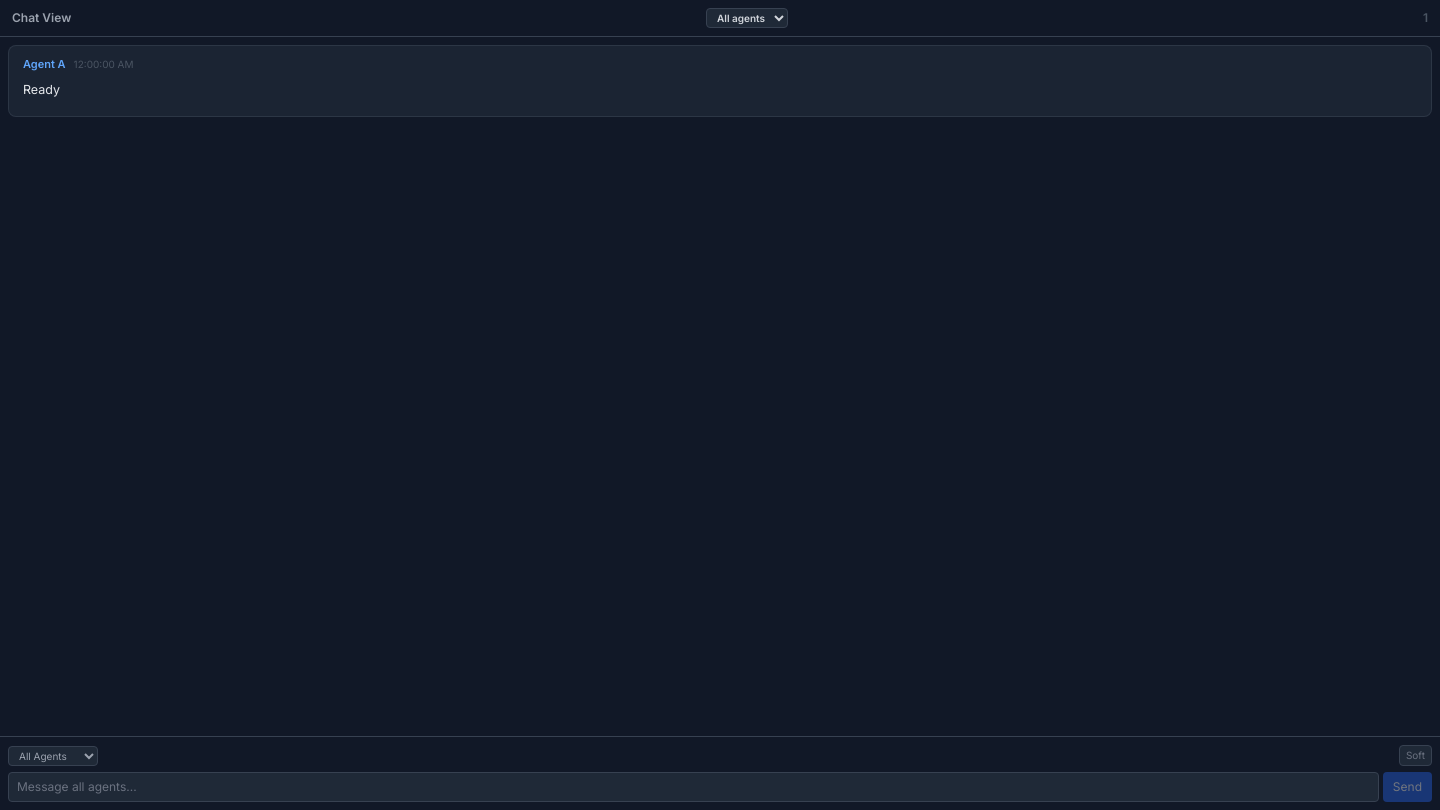
Scenario: ChatPanel client rendering contracts › shows a truthful no-recipient result when no reusable sessions are available
The width and height of the screenshot is (1440, 810).
(page scrolled)
Type "Ping" into the field with placeholder "Message all agents...".
click(693, 787); type("Ping")  # box x1=8 y1=772 x2=1379 y2=802
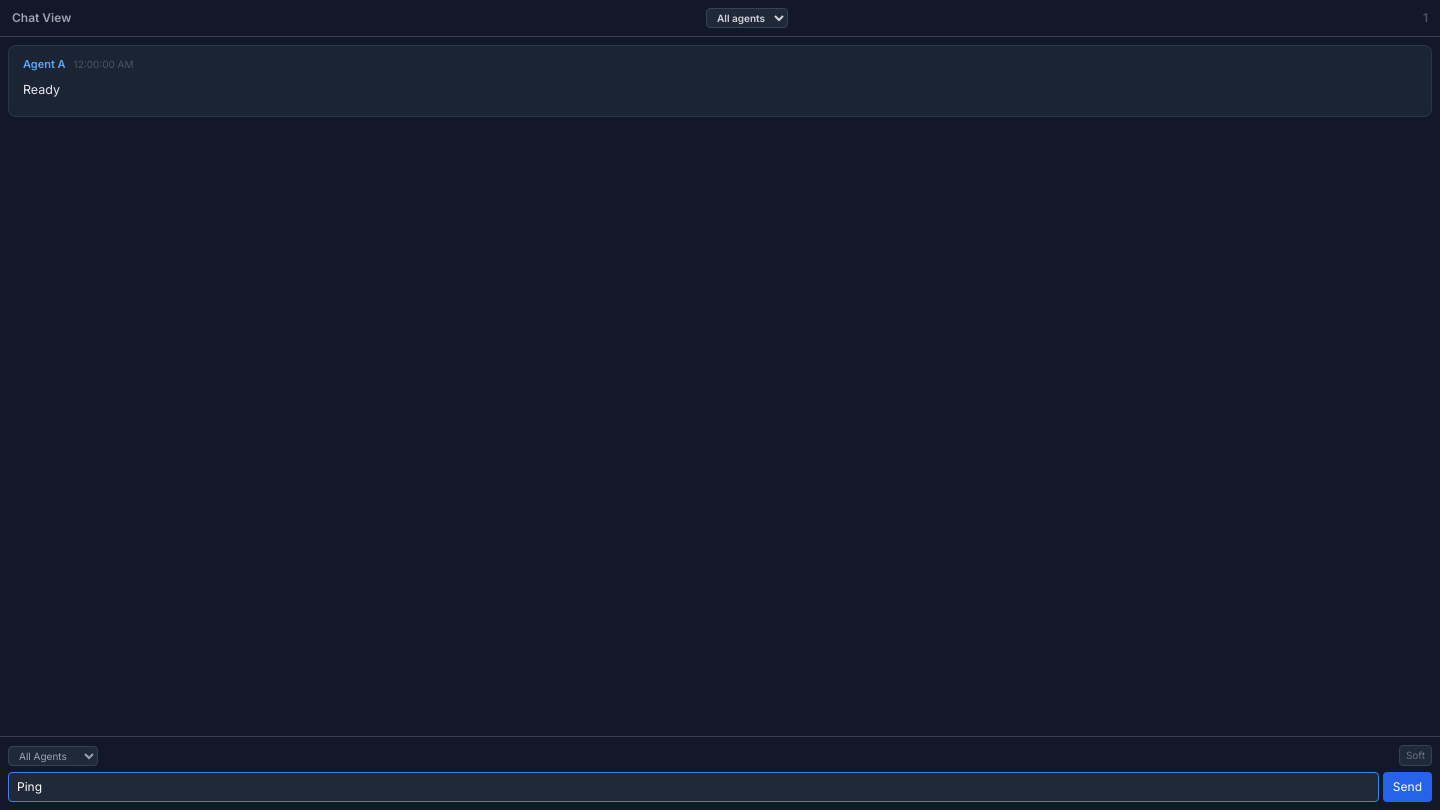
Click the button "Send".
click(1407, 787)  # box x1=1383 y1=772 x2=1432 y2=802
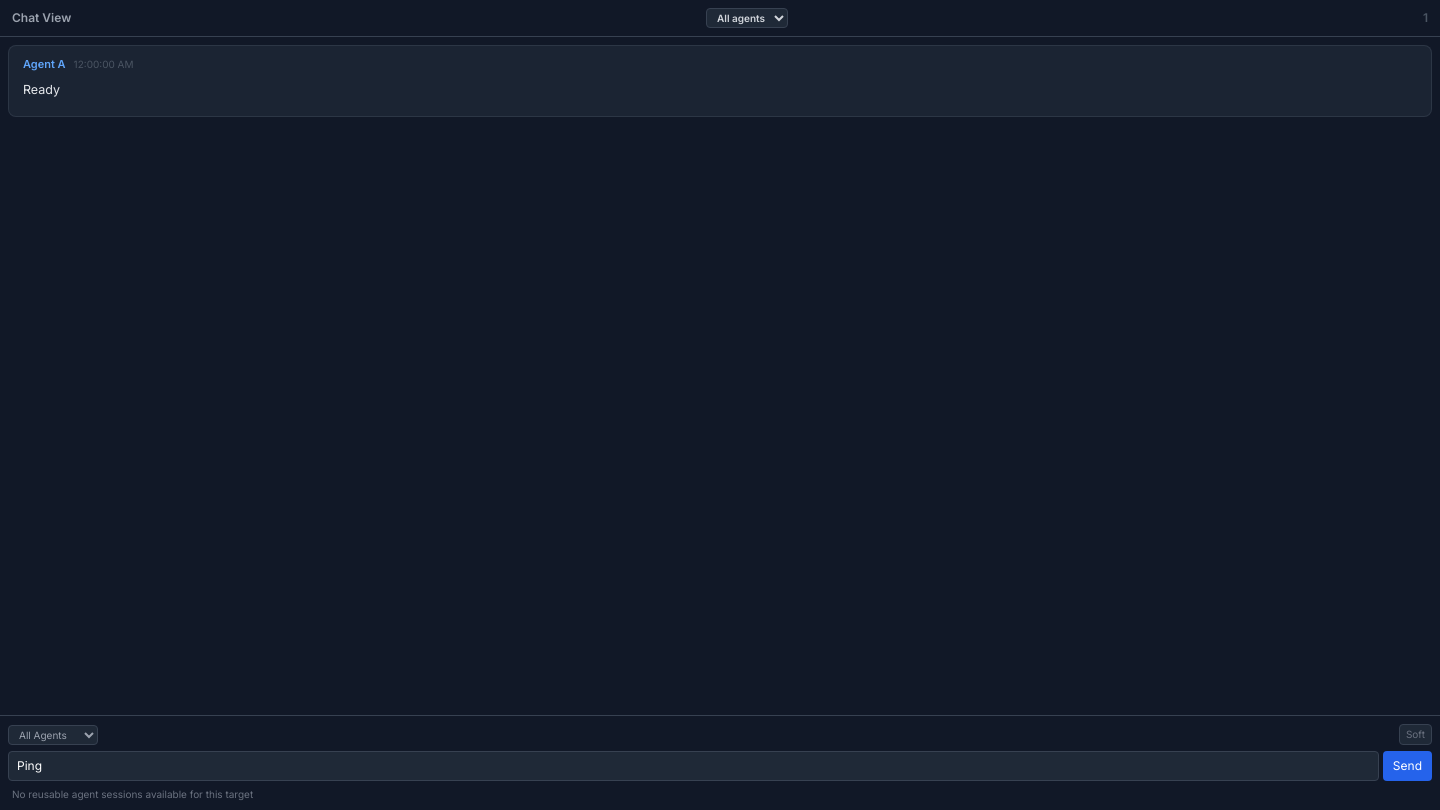
expect the text "No reusable agent sessions available for this target" is shown: met, box x1=12 y1=788 x2=253 y2=800
